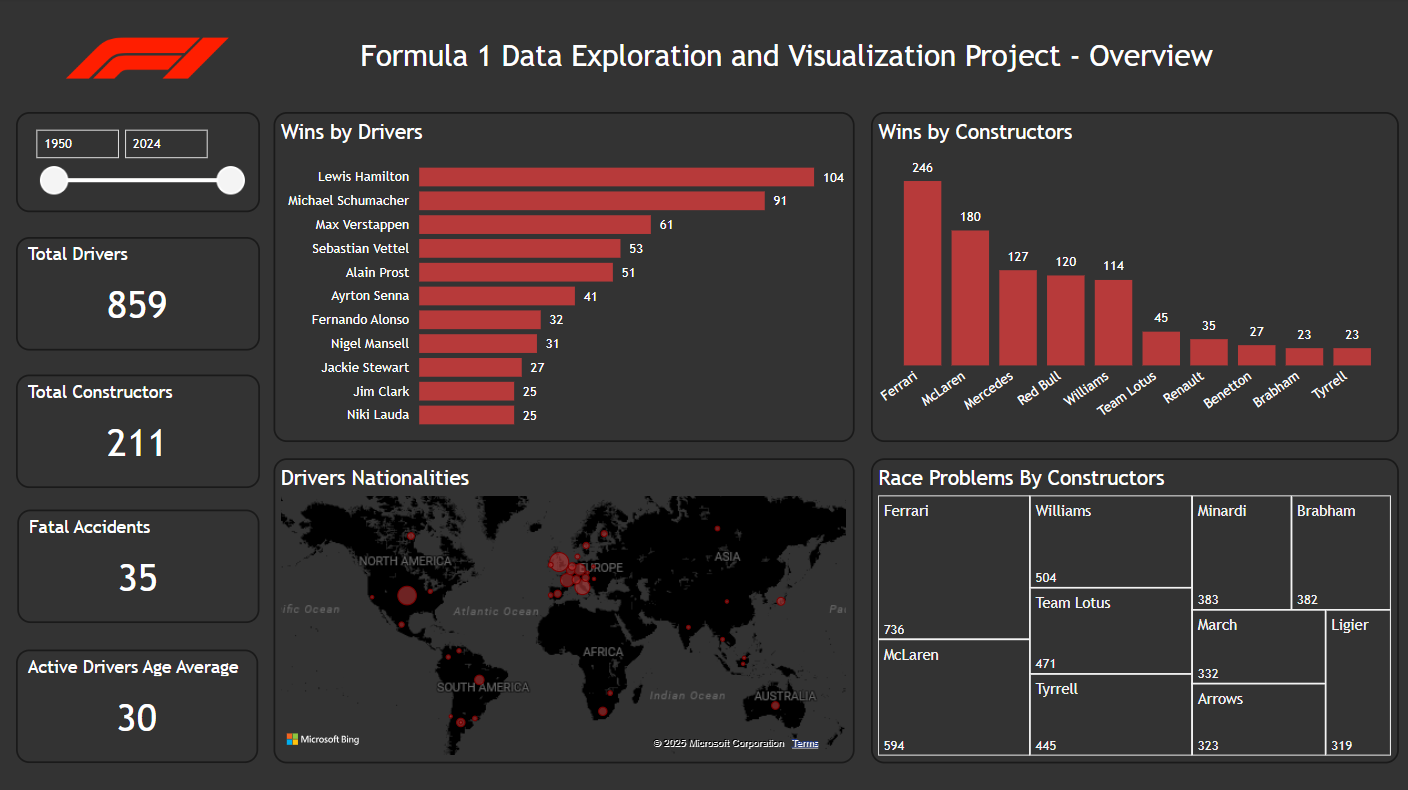

This screenshot's page, from the dashboard's own definition file:
{"tool":"powerbi","page":{"name":"Overview","canvas":[1280,720],"ordinal":0},"visuals":[{"type":"card","title":"Total Drivers","fields":{"Values":["f1Dataset.TotalDrivers"]},"box":[17.5,216.2,220,102.5],"z":0},{"type":"columnChart","title":"Wins by Constructors","fields":{"Category":["f1Dataset.constructorName"],"Y":["f1Dataset.Wins"]},"box":[788.8,103.8,476.2,297.5],"z":1000},{"type":"card","title":"Total Constructors","fields":{"Values":["f1Dataset.constructorName"]},"box":[17.5,340,220,102.5],"z":2000},{"type":"card","title":"Fatal Accidents","fields":{"Values":["f1Dataset.fatalAccident"]},"box":[18.8,462.5,218.8,102.5],"z":3000},{"type":"barChart","title":"Wins by Drivers","fields":{"Y":["f1Dataset.Wins"],"Category":["f1Dataset.driverName"]},"box":[250,103.8,523.8,297.5],"z":4000},{"type":"image","box":[48,8.2,175.6,94.7],"z":5000},{"type":"textbox","box":[168.6,32.9,1087.1,44.3],"z":6000},{"type":"card","title":"Active Drivers Age Average","fields":{"Values":["f1Dataset.driverAge"]},"box":[17.5,588.8,218.8,102.5],"z":7000},{"type":"slicer","fields":{"Values":["f1Dataset.year"]},"box":[17.5,103.8,220,90],"z":8000},{"type":"treemap","title":"Race Problems By Constructors","fields":{"Group":["f1Dataset.constructorName"],"Values":["f1Dataset.m2"]},"box":[788.8,416.2,476.2,275],"z":9000},{"type":"map","title":"Drivers Nationalities","fields":{"Size":["f1Dataset.driverName"],"Category":["f1Dataset.driverNationality"]},"box":[250,416.2,523.8,275],"z":11000}]}

Visuals, with their boxes in screenshot pixels (x1, y1, x2, y2), scaled from the page's 1280x720 canvas onto the 1408x790 screenshot:
"Total Drivers" card: [left=19, top=237, right=261, bottom=350]
"Wins by Constructors" columnChart: [left=868, top=114, right=1392, bottom=440]
"Total Constructors" card: [left=19, top=373, right=261, bottom=486]
"Fatal Accidents" card: [left=21, top=507, right=261, bottom=620]
"Wins by Drivers" barChart: [left=275, top=114, right=851, bottom=440]
image: [left=53, top=9, right=246, bottom=113]
textbox: [left=185, top=36, right=1381, bottom=85]
"Active Drivers Age Average" card: [left=19, top=646, right=260, bottom=759]
slicer - f1Dataset.year: [left=19, top=114, right=261, bottom=213]
"Race Problems By Constructors" treemap: [left=868, top=457, right=1392, bottom=758]
"Drivers Nationalities" map: [left=275, top=457, right=851, bottom=758]
